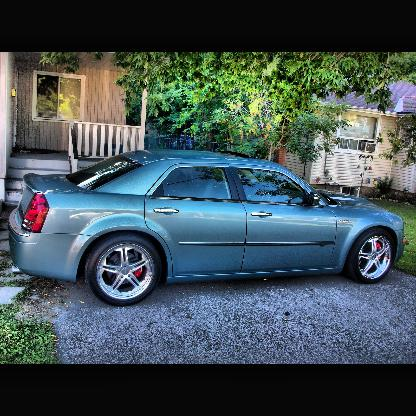Chrysler 300 SRT-8 2010: (8, 150, 407, 308)
